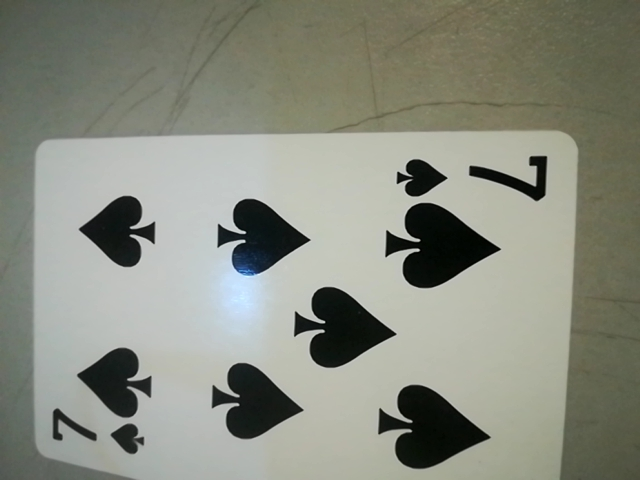ht 7: (396, 149, 554, 203)
